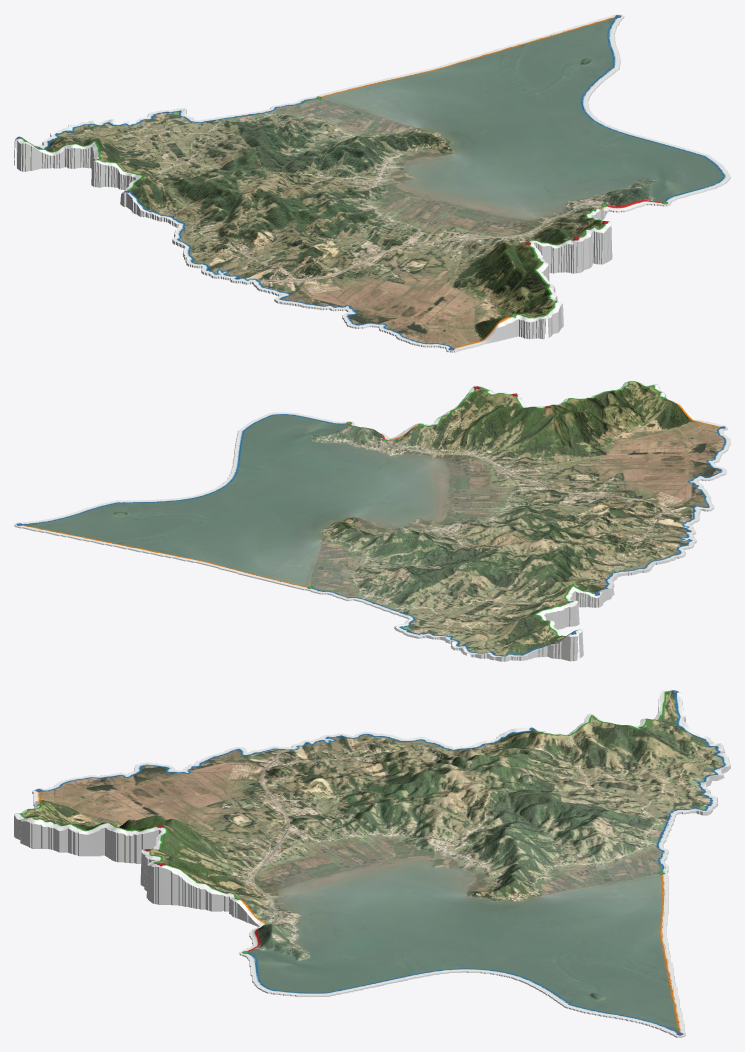
3 renders of one model, top to bottom at view 1: azimuth 30°, elevation 25°; view 2: azimuth 150°, elevation 25°; view 3: azimuth 270°, elevation 25°, orthographic. The views are drawn at different scales.
Size of the model in its own units: 0.9989 by 0.0552 by 0.9488.
Materials: 1 (1 with a texture image).
